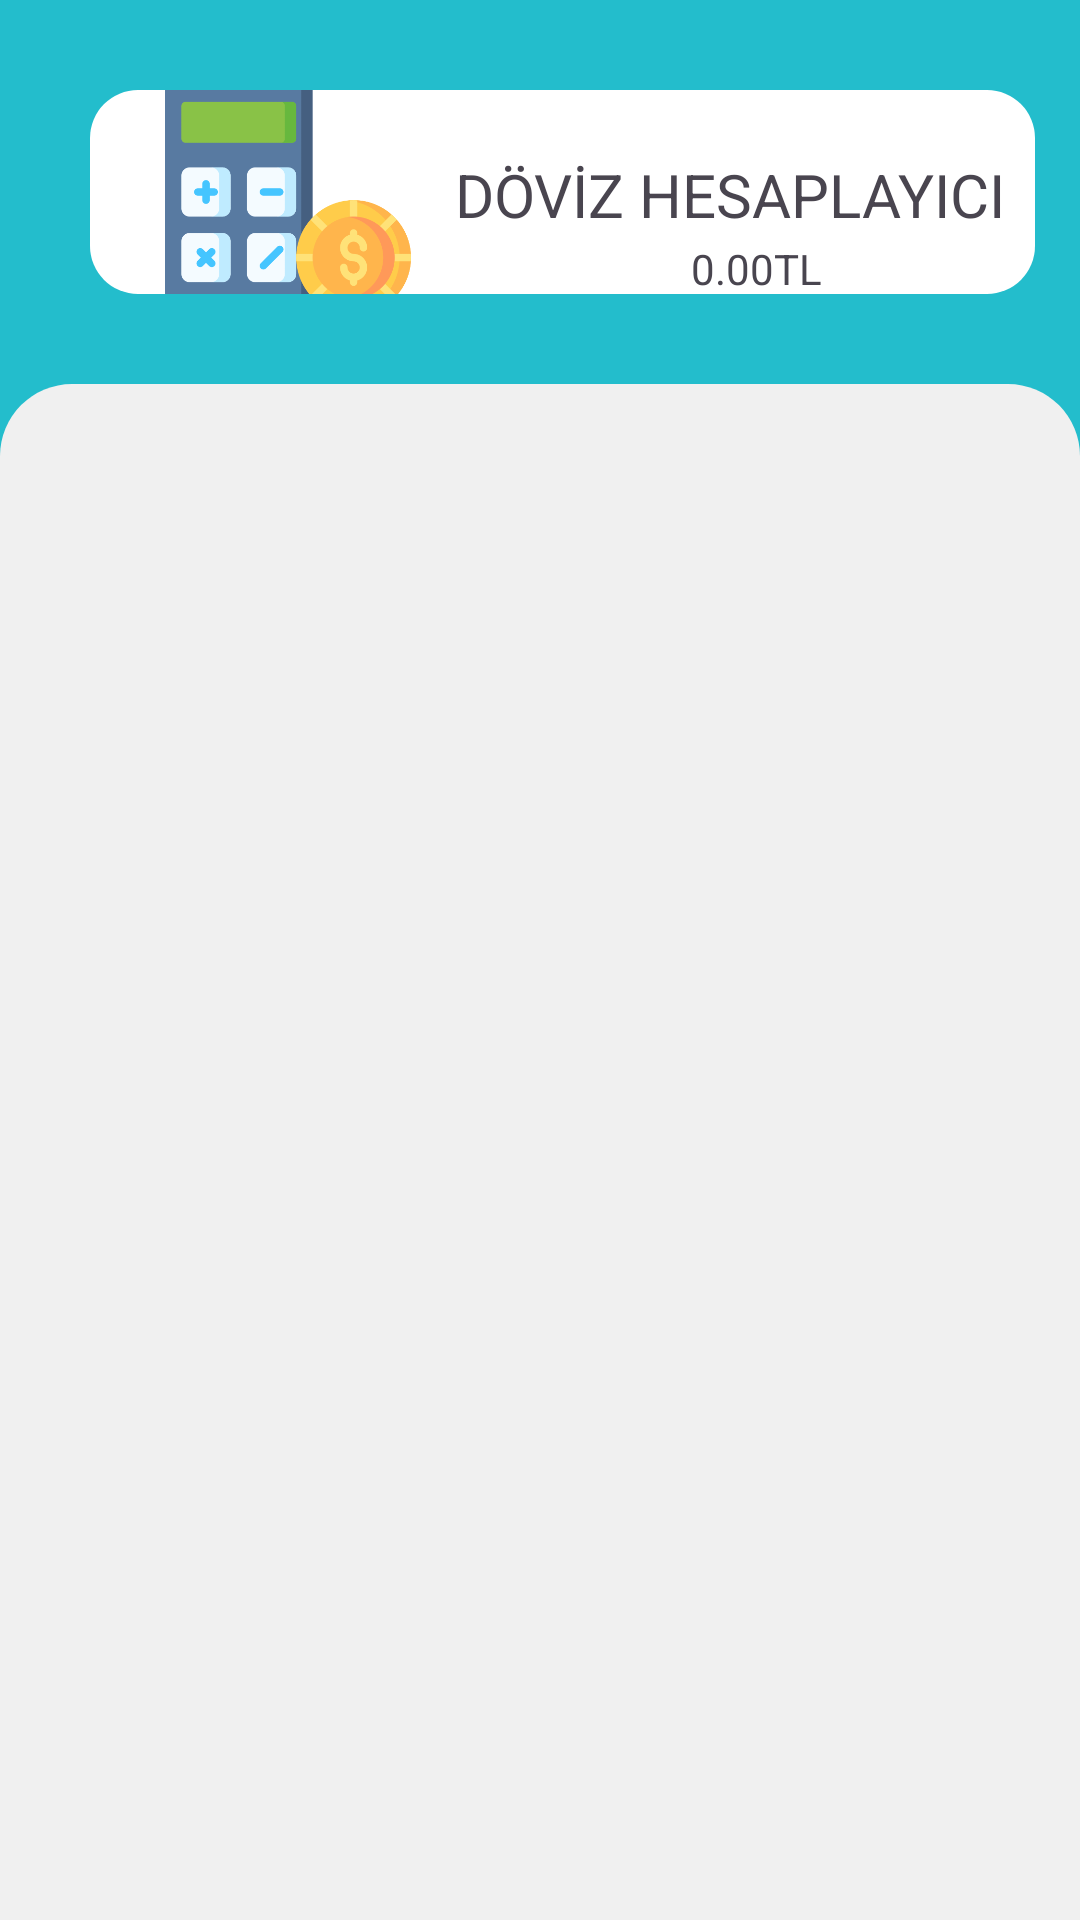

Where to tap for icons on this 1080x1920 app screen, as (x,y):
calculator: (288,192)
